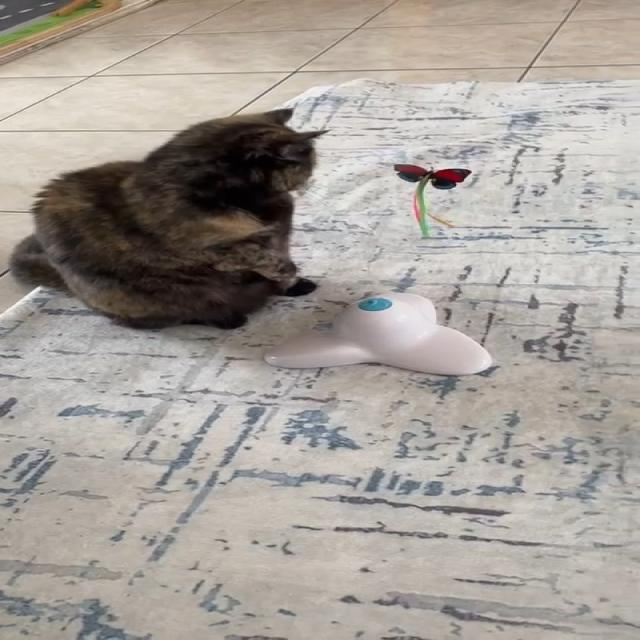authorized: (8, 107, 331, 330)
